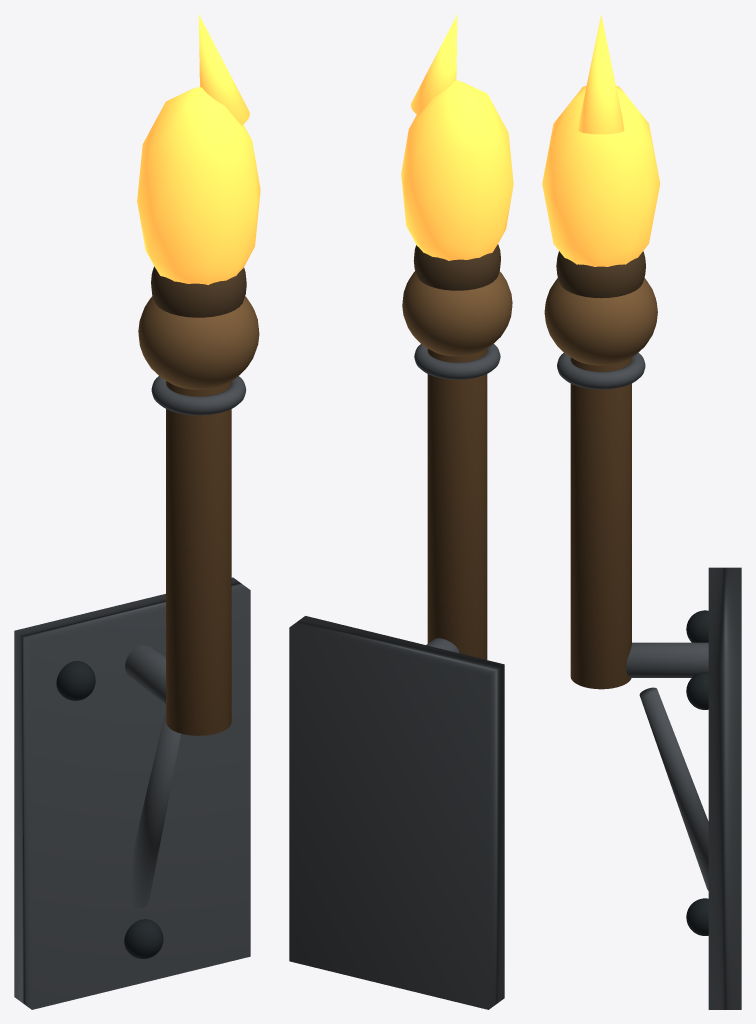
The model's file is 3D模型 props_torch_wall.glb.
3 renders of one model, left to right at view 1: azimuth 30°, elevation 25°; view 2: azimuth 150°, elevation 25°; view 3: azimuth 270°, elevation 25°, orthographic. The views are drawn at different scales.
Visible parts, largest first — view 1: part_plate, part_handle, part_flame_out, part_rag_lo, part_strut, part_rag_hi, part_flame_tip, part_collar, part_arm, part_bolt_c, part_bolt_b; view 2: part_plate, part_handle, part_flame_out, part_rag_lo, part_rag_hi, part_flame_tip, part_collar; view 3: part_handle, part_flame_out, part_plate, part_rag_lo, part_strut, part_flame_tip, part_arm, part_rag_hi, part_collar, part_bolt_c, part_bolt_a, part_bolt_b.
Boxes of the visible parts, <box> form: part_plate: <box>14,577,250,1009</box>; part_handle: <box>166,381,231,735</box>; part_flame_out: <box>137,86,260,284</box>; part_rag_lo: <box>138,296,259,389</box>; part_strut: <box>130,716,180,908</box>; part_rag_hi: <box>151,266,246,317</box>; part_flame_tip: <box>198,14,249,125</box>; part_collar: <box>151,376,246,415</box>; part_arm: <box>125,645,165,703</box>; part_bolt_c: <box>124,919,163,958</box>; part_bolt_b: <box>56,661,95,700</box>; part_plate: <box>289,616,504,1009</box>; part_handle: <box>427,348,487,659</box>; part_flame_out: <box>401,80,513,260</box>; part_rag_lo: <box>402,271,512,356</box>; part_rag_hi: <box>413,244,500,290</box>; part_flame_tip: <box>411,14,457,115</box>; part_collar: <box>414,344,500,379</box>; part_handle: <box>570,357,631,689</box>; part_flame_out: <box>542,85,660,266</box>; part_plate: <box>708,567,741,1009</box>; part_rag_lo: <box>544,278,657,365</box>; part_strut: <box>639,687,708,890</box>; part_flame_tip: <box>578,14,624,134</box>; part_arm: <box>626,642,708,677</box>; part_rag_hi: <box>556,251,645,298</box>; part_collar: <box>557,353,645,389</box>; part_bolt_c: <box>686,898,708,935</box>; part_bolt_a: <box>686,672,708,709</box>; part_bolt_b: <box>686,610,708,642</box>.
Bounding box in the file's own units: 0.2 × 0.8835 × 0.169.
